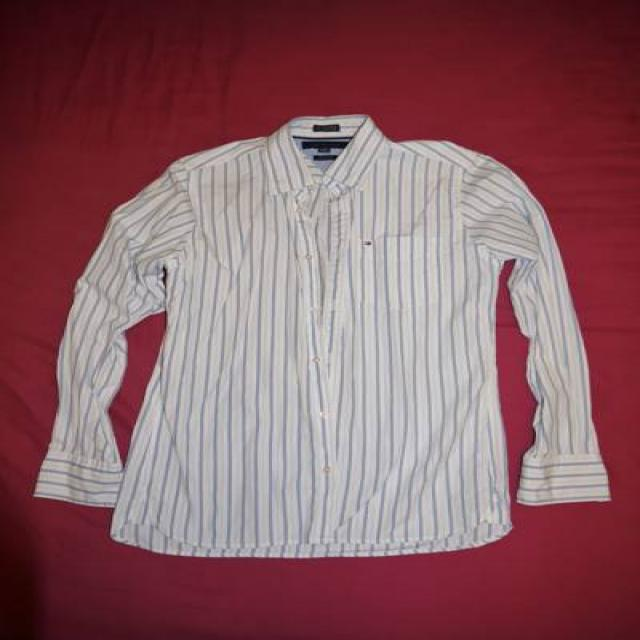Clothes -Biodegradable-: (34, 113, 609, 557)
